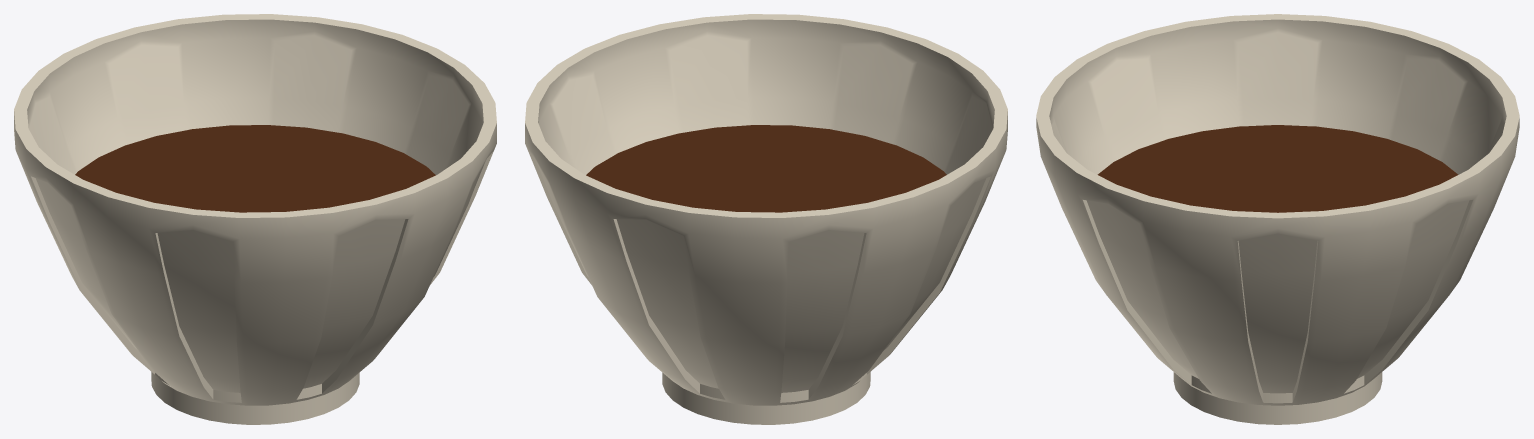
Rendered from TeaCup_TwoThird.glb.
The picture shows the model from 3 angles, left to right: view 1: azimuth 30°, elevation 25°; view 2: azimuth 150°, elevation 25°; view 3: azimuth 270°, elevation 25°; orthographic projection.
Visible parts, largest first — view 1: TeaCup_TwoThird; view 2: TeaCup_TwoThird; view 3: TeaCup_TwoThird.
Boxes of the visible parts, <box> form: TeaCup_TwoThird: <box>14,14,496,424</box>; TeaCup_TwoThird: <box>525,14,1007,424</box>; TeaCup_TwoThird: <box>1036,14,1519,424</box>.
Size of the model in its own units: 2.21 by 1.34 by 2.21.
Materials: 1 (1 with a texture image).
